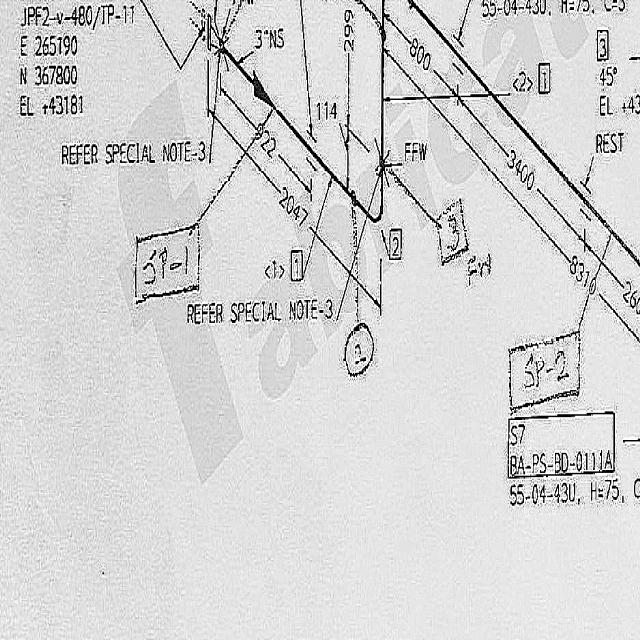Item number: (505, 410, 617, 482), (594, 25, 612, 63), (289, 246, 307, 284), (388, 225, 404, 263), (536, 60, 552, 95), (621, 436, 639, 447)
Measrement: (383, 35, 639, 358), (207, 99, 384, 324), (457, 83, 584, 252), (219, 69, 315, 208), (385, 0, 459, 113), (583, 226, 639, 329), (314, 97, 350, 164), (341, 0, 357, 132), (252, 18, 289, 55)
Pipeline: (398, 1, 639, 281), (226, 1, 393, 236)
Symbol: (346, 142, 391, 227), (192, 1, 228, 65), (246, 57, 277, 116), (567, 174, 594, 208)
Weld number: (340, 317, 377, 380)
other: (13, 0, 138, 120), (54, 136, 206, 169), (183, 297, 327, 330), (506, 478, 640, 513), (478, 0, 632, 19), (593, 68, 639, 117), (595, 125, 627, 161)
